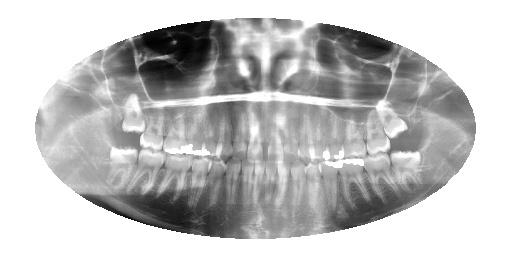i10healthy: (236, 160, 256, 206)
i11healthy: (221, 158, 244, 214)
i12healthy: (204, 158, 228, 210)
i13healthy: (185, 157, 213, 212)
i14healthy: (156, 150, 191, 209)
i15healthy: (125, 145, 168, 202)
i16healthy: (101, 143, 140, 193)
i1healthy: (387, 143, 428, 194)
i2healthy: (362, 152, 401, 207)
i3healthy: (336, 156, 373, 210)
i4healthy: (318, 157, 344, 213)
i5healthy: (303, 160, 324, 213)
i6healthy: (287, 163, 308, 211)
i7healthy: (270, 161, 292, 209)
i8healthy: (262, 162, 279, 209)
i9healthy: (251, 163, 269, 211)
u10healthy: (227, 102, 252, 162)
u11healthy: (216, 101, 240, 164)
u12healthy: (202, 98, 222, 160)
u13healthy: (187, 102, 208, 159)
u14healthy: (163, 104, 191, 157)
u15healthy: (136, 106, 167, 152)
u16healthy: (119, 88, 148, 135)
u1healthy: (374, 94, 414, 142)
u2healthy: (362, 100, 394, 155)
u3healthy: (340, 107, 371, 159)
u4healthy: (323, 106, 346, 162)
u5healthy: (306, 104, 329, 163)
u6healthy: (295, 98, 318, 163)
u7healthy: (279, 102, 302, 165)
u8healthy: (266, 99, 287, 164)
u9healthy: (246, 102, 266, 165)
